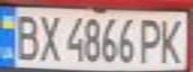4: (63, 12, 84, 62)
6: (115, 15, 139, 64), (100, 15, 121, 63)
8: (81, 14, 103, 63)
B: (9, 10, 42, 62)
K: (157, 15, 187, 64)
P: (136, 15, 166, 64)
X: (36, 10, 63, 62)
